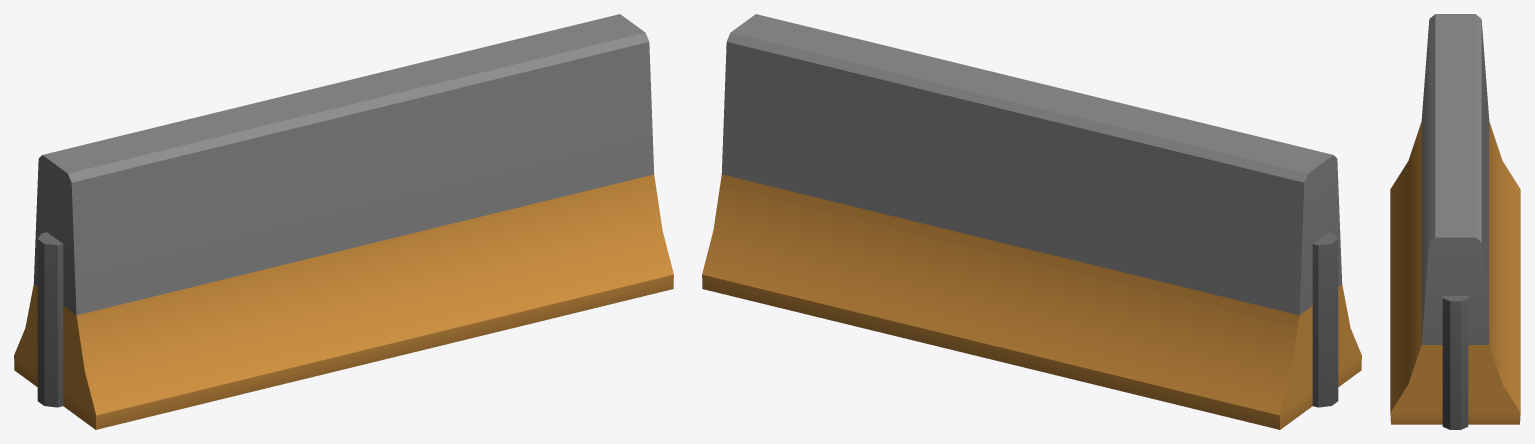
Rendered from ConcreteBlock1.fbx.
3 renders of one model, left to right at view 1: azimuth 30°, elevation 25°; view 2: azimuth 150°, elevation 25°; view 3: azimuth 270°, elevation 25°, orthographic. The views are drawn at different scales.
Parts seen in each view (by area): view 1: isl_ConcreteBlock_02_DEF.obj; view 2: isl_ConcreteBlock_02_DEF.obj; view 3: isl_ConcreteBlock_02_DEF.obj.
Boxes of the visible parts, left/top/right/bottom form: isl_ConcreteBlock_02_DEF.obj: left=14, top=14, right=673, bottom=429; isl_ConcreteBlock_02_DEF.obj: left=702, top=14, right=1361, bottom=429; isl_ConcreteBlock_02_DEF.obj: left=1390, top=14, right=1520, bottom=429.
Bounding box in the file's own units: 215 × 80 × 50.5.
